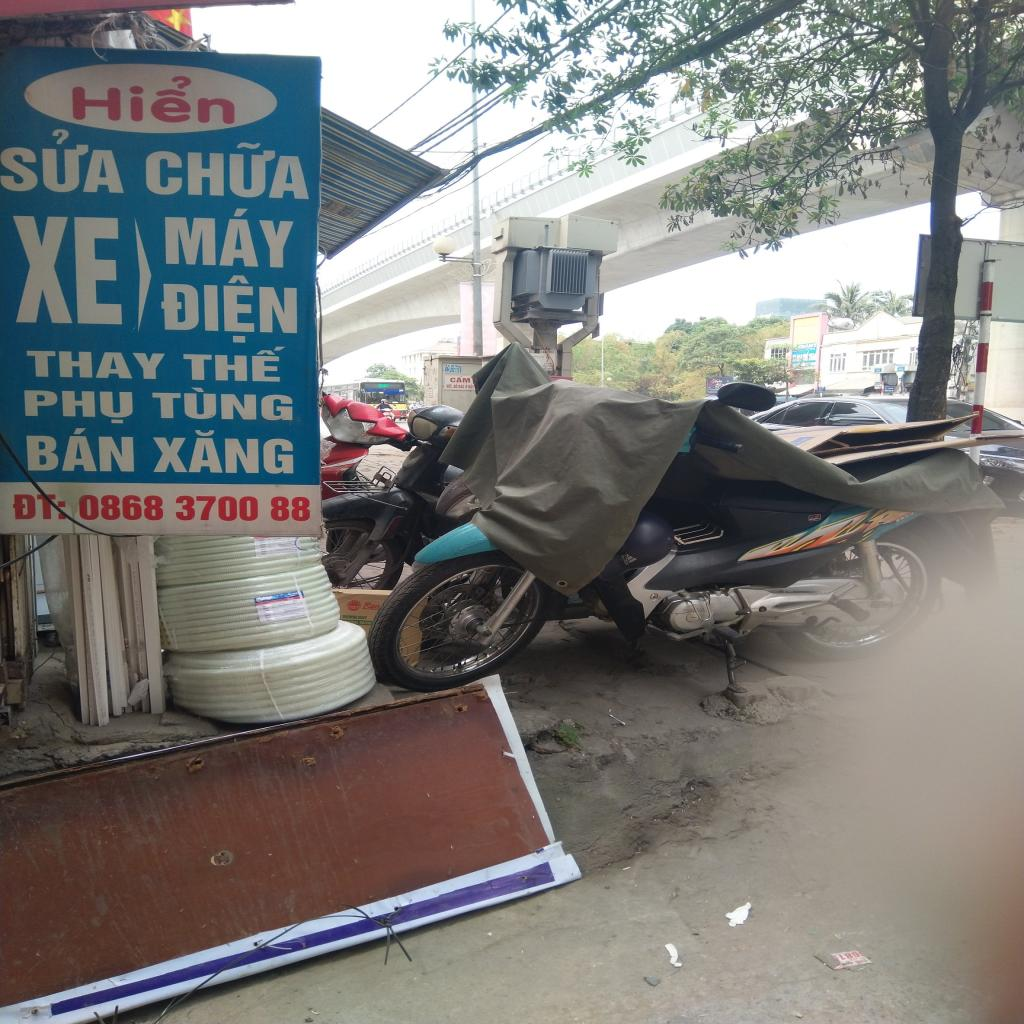text: (11, 212, 126, 330), (136, 138, 315, 200), (154, 272, 303, 344), (159, 202, 300, 270), (66, 72, 242, 123), (1, 126, 128, 195), (147, 424, 297, 473), (23, 427, 138, 473), (145, 386, 293, 420), (20, 348, 168, 380), (20, 388, 136, 426), (178, 344, 288, 382), (169, 495, 262, 522), (76, 494, 165, 522), (7, 491, 69, 523), (270, 497, 312, 522), (836, 950, 862, 962), (341, 614, 370, 622), (362, 602, 383, 610), (450, 376, 472, 383), (444, 384, 454, 389), (458, 383, 466, 389), (467, 383, 475, 389), (454, 383, 460, 389), (464, 383, 468, 389)
